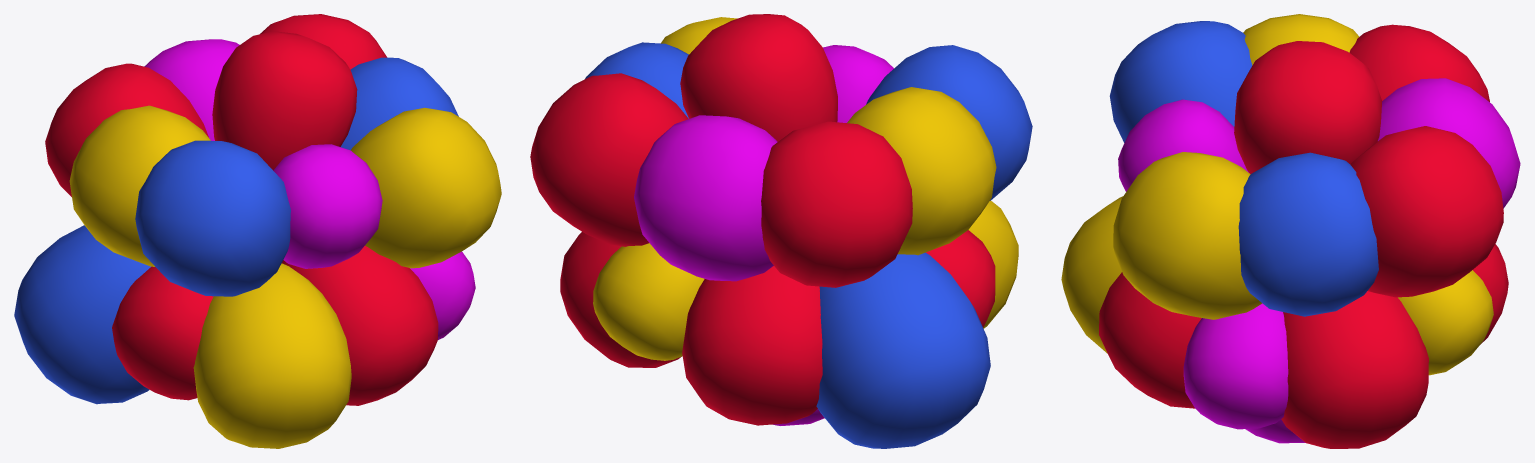
File: baloes.fbx
3 renders of one model, left to right at view 1: azimuth 30°, elevation 25°; view 2: azimuth 150°, elevation 25°; view 3: azimuth 270°, elevation 25°, orthographic. The views are drawn at different scales.
Parts seen in each view (by area): view 1: Cube.016, Cube.007, Cube.005, Cube.015, Cube, Cube.010, Cube.008, Cube.002, Cube.012, Cube.001, Cube.006, Cube.004 (+2 smaller); view 2: Cube.015, Cube.001, Cube.004, Cube.011, Cube.003, Cube, Cube.008, Cube.014, Cube.007, Cube.013, Cube.006, Cube.012 (+3 smaller); view 3: Cube.003, Cube.006, Cube.013, Cube.005, Cube, Cube.017, Cube.007, Cube.010, Cube.004, Cube.002, Cube.001, Cube.014 (+4 smaller).
Boxes of the visible parts, bbox=[...] form: Cube.016: bbox=[193, 263, 351, 448]; Cube.007: bbox=[135, 140, 290, 296]; Cube.005: bbox=[350, 107, 501, 268]; Cube.015: bbox=[14, 225, 150, 404]; Cube: bbox=[212, 31, 357, 170]; Cube.010: bbox=[282, 246, 438, 405]; Cube.008: bbox=[69, 105, 210, 266]; Cube.002: bbox=[273, 144, 382, 268]; Cube.012: bbox=[112, 266, 213, 400]; Cube.001: bbox=[45, 63, 208, 196]; Cube.006: bbox=[341, 57, 458, 150]; Cube.004: bbox=[144, 39, 239, 140]; Cube.015: bbox=[816, 252, 990, 448]; Cube.001: bbox=[761, 121, 912, 287]; Cube.004: bbox=[634, 115, 777, 281]; Cube.011: bbox=[682, 266, 822, 425]; Cube.003: bbox=[530, 73, 688, 246]; Cube: bbox=[680, 14, 837, 141]; Cube.008: bbox=[847, 87, 996, 255]; Cube.014: bbox=[593, 243, 704, 360]; Cube.007: bbox=[866, 45, 1032, 200]; Cube.013: bbox=[560, 232, 681, 367]; Cube.006: bbox=[585, 42, 688, 118]; Cube.012: bbox=[926, 230, 995, 327]; Cube.003: bbox=[1350, 126, 1503, 297]; Cube.006: bbox=[1238, 152, 1378, 316]; Cube.013: bbox=[1281, 291, 1428, 448]; Cube.005: bbox=[1113, 152, 1262, 319]; Cube: bbox=[1234, 41, 1382, 173]; Cube.017: bbox=[1183, 303, 1288, 429]; Cube.007: bbox=[1109, 21, 1252, 142]; Cube.010: bbox=[1099, 272, 1201, 408]; Cube.004: bbox=[1378, 78, 1520, 208]; Cube.002: bbox=[1118, 99, 1248, 191]; Cube.001: bbox=[1349, 24, 1489, 101]; Cube.014: bbox=[1398, 270, 1493, 375].
Size of the model in its own units: 529 by 465 by 491.
